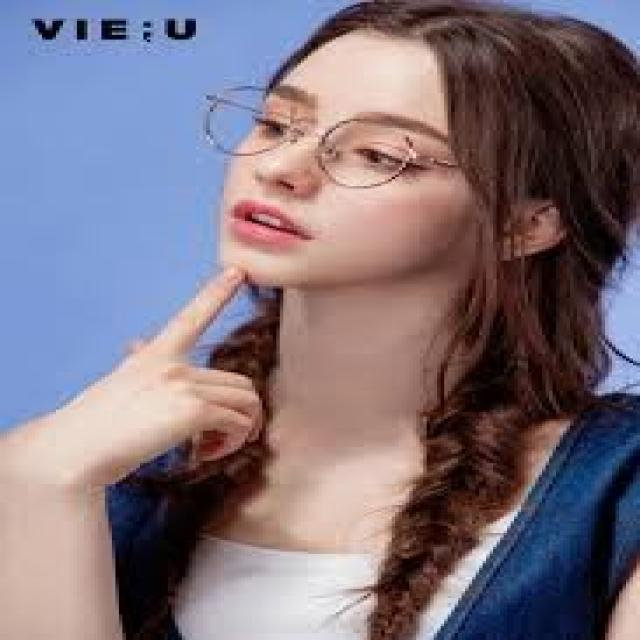Glasses: (185, 79, 518, 196)
